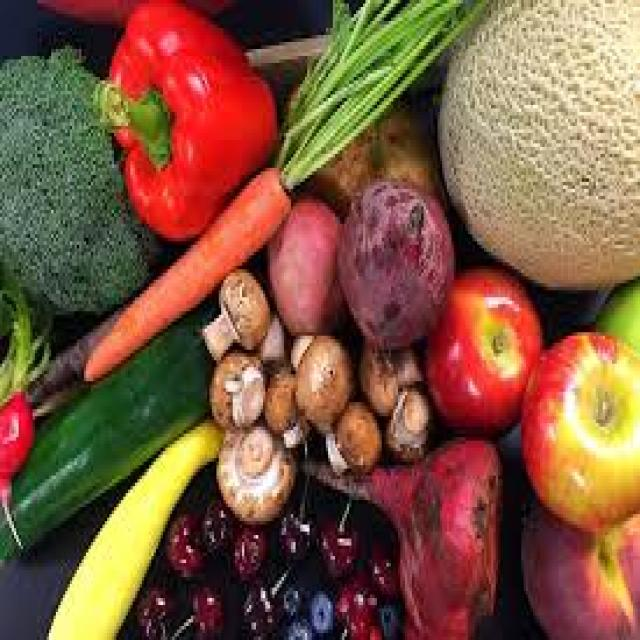organic waste: (433, 0, 638, 290), (0, 297, 209, 559), (93, 0, 279, 245), (82, 164, 288, 374), (296, 430, 500, 637), (0, 42, 154, 315), (274, 0, 493, 185), (42, 412, 219, 636), (521, 325, 638, 528), (281, 73, 440, 203), (426, 262, 542, 427), (333, 178, 451, 336), (519, 496, 638, 636), (19, 304, 126, 416), (265, 192, 342, 329), (214, 420, 291, 521), (0, 269, 49, 399), (288, 332, 354, 427), (202, 262, 266, 354), (288, 332, 352, 423), (356, 339, 419, 409), (207, 350, 263, 423), (594, 269, 638, 357), (263, 360, 307, 448), (0, 388, 23, 549), (332, 395, 382, 469), (235, 566, 284, 636), (163, 497, 205, 577), (319, 493, 361, 570), (138, 577, 188, 637), (330, 570, 374, 637), (363, 525, 400, 598), (200, 483, 235, 556), (384, 392, 428, 448), (186, 577, 226, 637), (230, 521, 266, 574), (256, 297, 282, 364), (279, 514, 314, 560), (321, 426, 345, 476), (307, 588, 331, 633), (279, 570, 303, 609), (284, 325, 307, 364), (374, 598, 402, 626), (277, 420, 298, 448), (284, 616, 312, 636), (361, 612, 379, 637)
